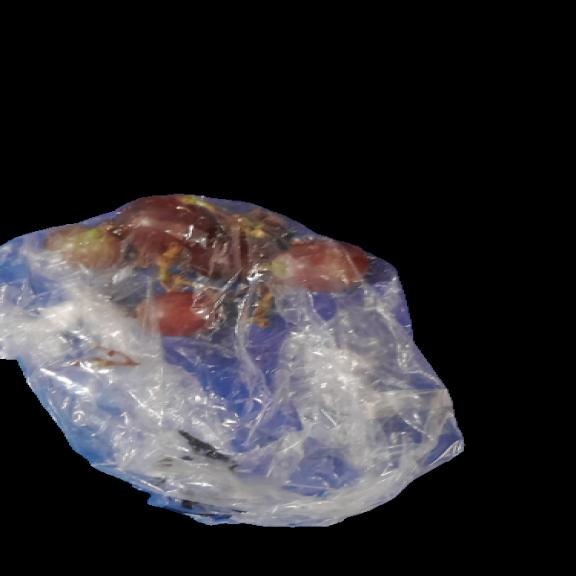Plastik: (0, 194, 472, 532)
